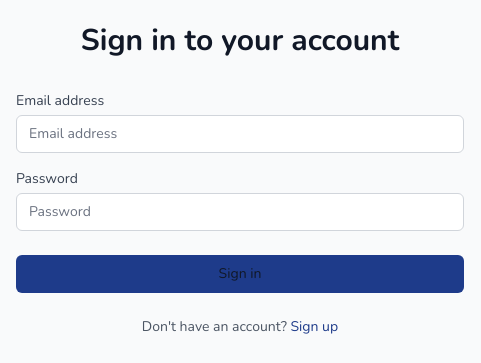
Test: LoginForm › should display validation error for missing password
In the field with placeholder "Email address": {"x": 240, "y": 134} [16,115,464,153], type "test@example.com"
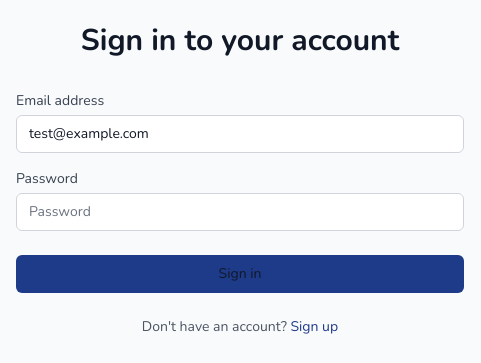
Click the button "Sign in": {"x": 240, "y": 274} [16,255,464,293]
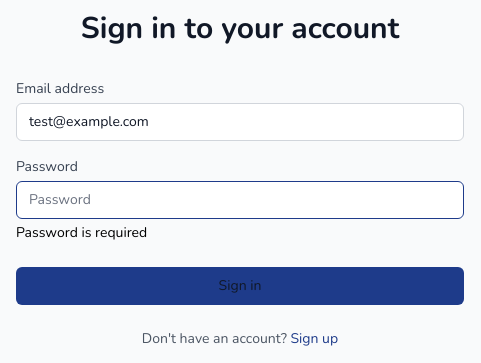
Check: the text "Password is required" is shown, box [16,223,147,242]
